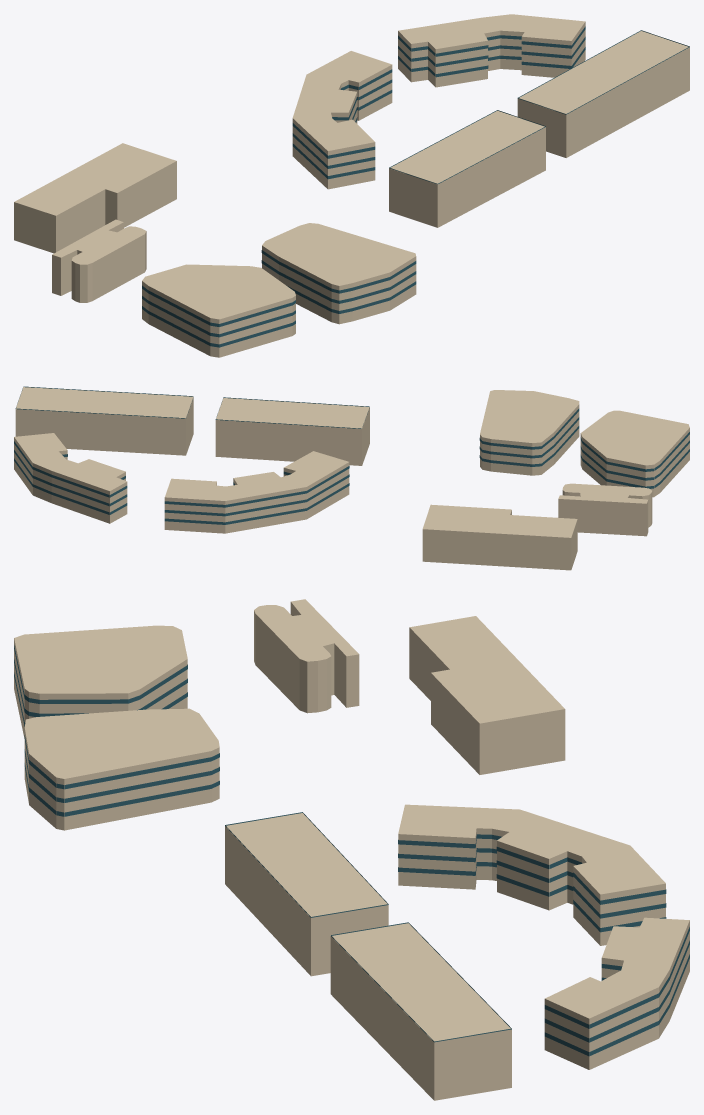
The model's file is city_3_5.glb.
The picture shows the model from 3 angles, top to bottom: view 1: azimuth 30°, elevation 25°; view 2: azimuth 150°, elevation 25°; view 3: azimuth 270°, elevation 25°; orthographic projection. The views are drawn at different scales.
Parts seen in each view (by area): view 1: city_3_5; view 2: city_3_5; view 3: city_3_5.
Boxes of the visible parts, bbox=[...] form: city_3_5: bbox=[14, 14, 689, 357]; city_3_5: bbox=[14, 386, 689, 570]; city_3_5: bbox=[14, 599, 689, 1100].
Size of the model in its own units: 281 by 17.25 by 178.
